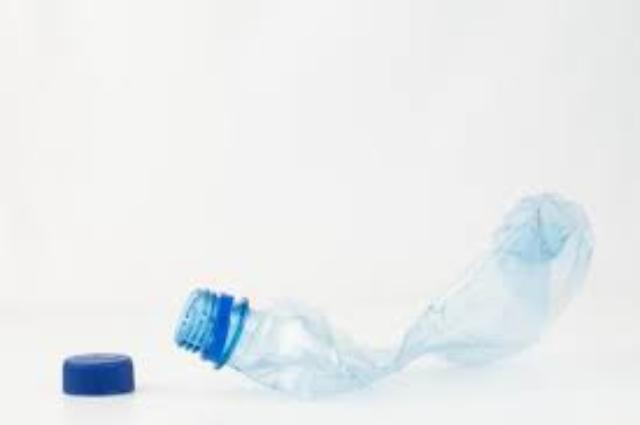plastic: (172, 189, 589, 391), (61, 354, 133, 396)
